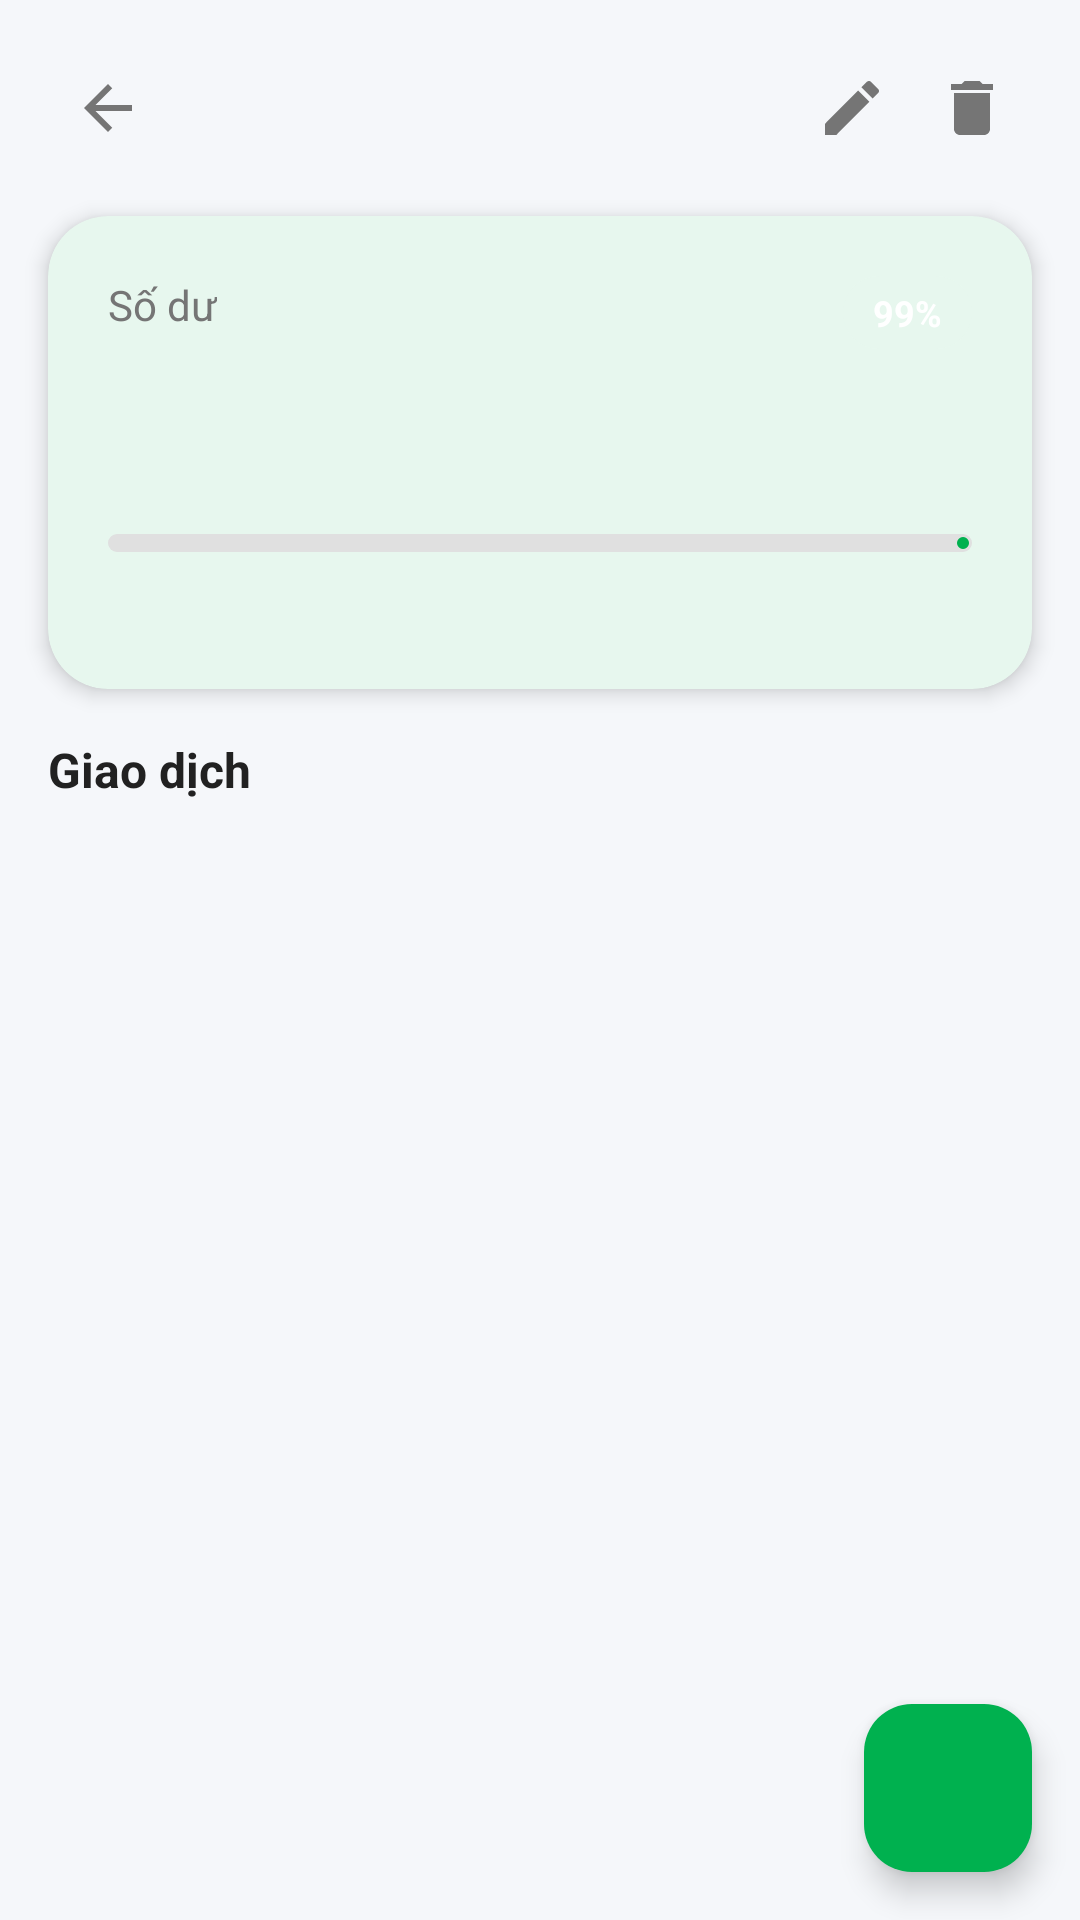

Screen size 1080 x 1920. Icon name, then its box in pixels as region(x1, y1, x2, y2):
Hủy: region(84, 84, 132, 132)
Sửa Hủ: region(825, 81, 879, 135)
Xóa: region(951, 81, 993, 135)
